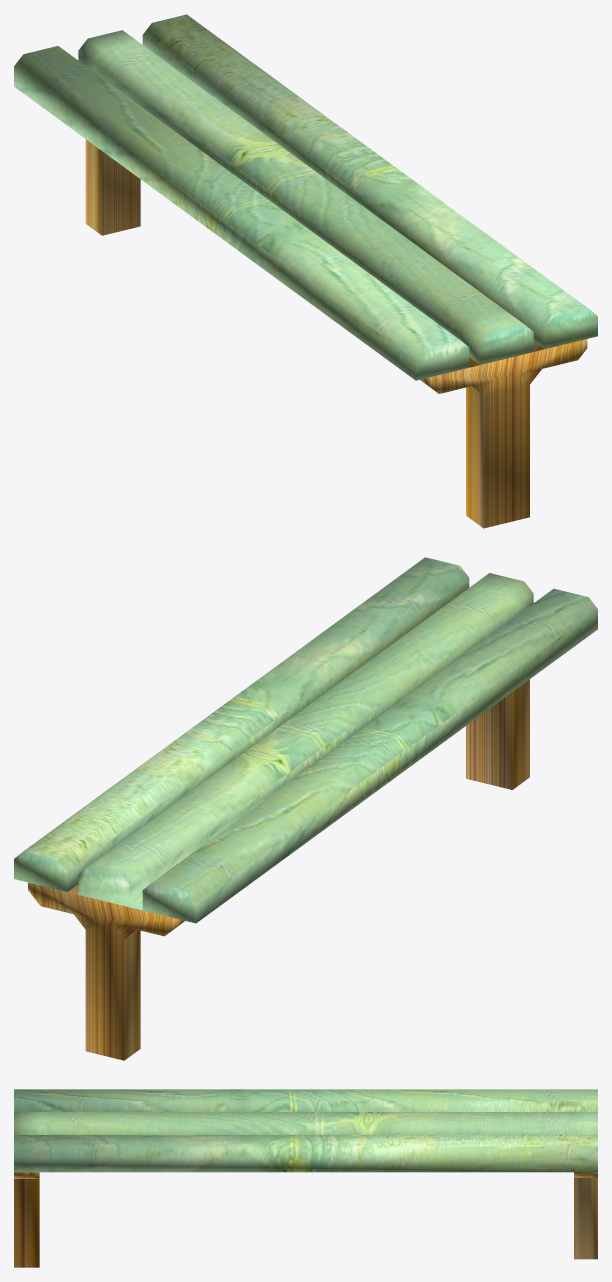
The model's file is bench.fbx.
3 renders of one model, top to bottom at view 1: azimuth 30°, elevation 25°; view 2: azimuth 150°, elevation 25°; view 3: azimuth 270°, elevation 25°, orthographic. The views are drawn at different scales.
Parts seen in each view (by area): view 1: Cube.005 (×2); view 2: Cube.005 (×2); view 3: Cube.005 (×2).
Part boxes in pixels (x1,y1,x2,y2): Cube.005 (×2): (14,14,597,528); Cube.005 (×2): (14,557,597,1060); Cube.005 (×2): (14,1089,597,1267).
Bounding box in the file's own units: 376 × 383 × 1435.
Materials: 2 (2 with a texture image).
